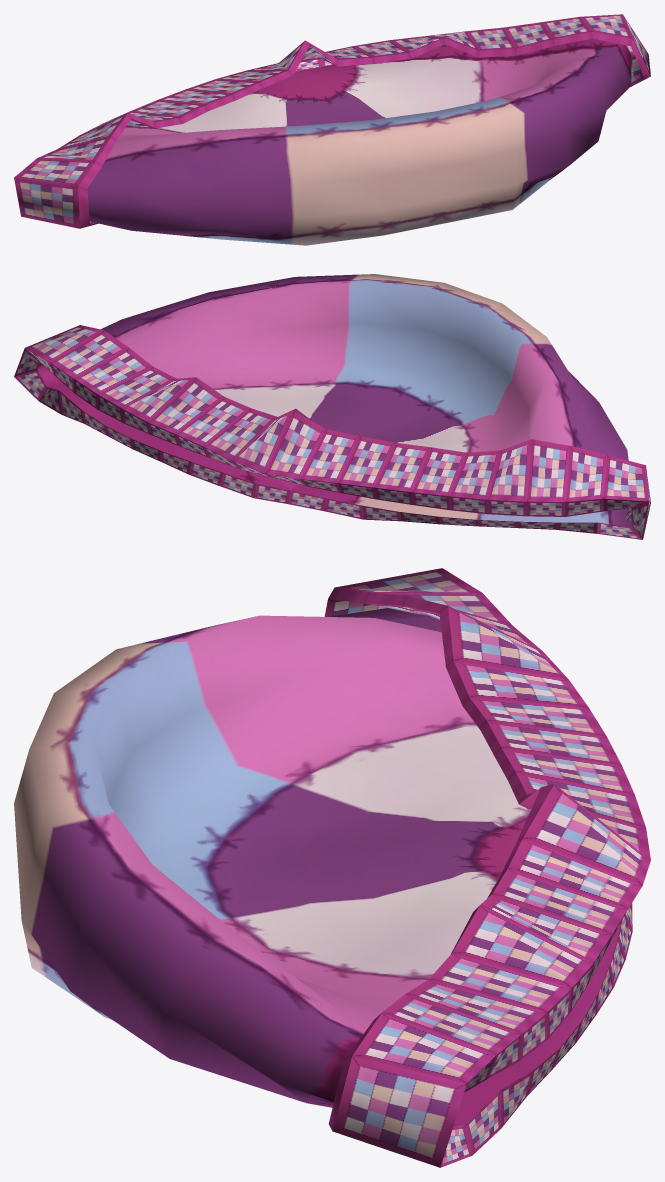
File: babyHat_Girl.fbx
3 views of the same model, one above another, from view 1: azimuth 30°, elevation 25°; view 2: azimuth 150°, elevation 25°; view 3: azimuth 270°, elevation 25° (orthographic). The views are drawn at different scales.
Visible parts, largest first — view 1: babyHat; view 2: babyHat; view 3: babyHat.
Boxes of the visible parts, box(x1,y1,x2,y2) form: babyHat: box(14, 14, 650, 245); babyHat: box(14, 274, 650, 539); babyHat: box(14, 568, 650, 1167).
Bounding box in the file's own units: 3.08 × 0.4692 × 1.52.
1 material, 1 textured.
